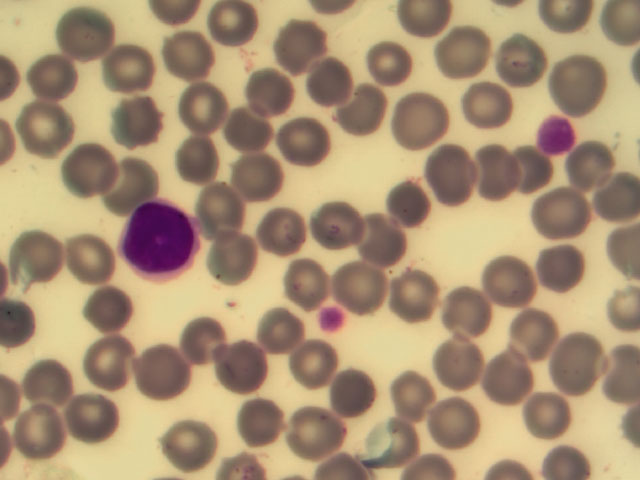Platelets: (540, 115, 577, 152), (318, 307, 347, 327)
RBC: (156, 419, 218, 479), (53, 6, 111, 59), (24, 47, 82, 100), (16, 102, 74, 155), (58, 140, 116, 193), (103, 157, 161, 210), (100, 97, 158, 150), (102, 43, 160, 96), (163, 28, 221, 81), (169, 78, 227, 131), (169, 129, 227, 182), (195, 184, 253, 237), (207, 233, 265, 286), (227, 147, 285, 200), (219, 102, 277, 155), (250, 56, 308, 109), (275, 118, 333, 171), (302, 57, 360, 110), (286, 21, 344, 74), (339, 86, 397, 139), (356, 40, 414, 93), (402, 91, 460, 144), (437, 29, 495, 82), (459, 73, 517, 126), (486, 34, 544, 87), (546, 51, 604, 104), (509, 138, 567, 191), (556, 143, 614, 196), (582, 163, 640, 216), (528, 187, 586, 240), (470, 146, 528, 199), (428, 149, 486, 202), (390, 172, 448, 225), (355, 212, 413, 265), (336, 253, 394, 306), (283, 253, 341, 306), (302, 197, 360, 250), (252, 208, 310, 261), (250, 300, 308, 353), (288, 335, 346, 388), (322, 367, 380, 420), (284, 412, 342, 465), (225, 398, 283, 451), (216, 337, 274, 390), (173, 312, 231, 365), (129, 343, 187, 396), (80, 330, 138, 383), (76, 270, 134, 323), (58, 234, 116, 287), (9, 229, 67, 282), (74, 394, 132, 447), (12, 406, 70, 459), (21, 358, 79, 411), (356, 416, 414, 469), (388, 363, 446, 416), (427, 396, 485, 449), (427, 337, 485, 390), (436, 292, 494, 345), (396, 271, 454, 324), (489, 255, 547, 308), (550, 238, 608, 291), (514, 305, 572, 358), (485, 353, 543, 406), (553, 328, 611, 381), (520, 387, 578, 440), (206, 1, 264, 53), (594, 1, 640, 51)
WBC: (118, 197, 199, 275)
